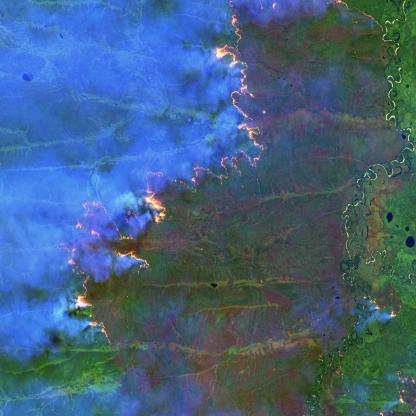fire: (52, 159, 168, 354), (182, 0, 269, 192), (362, 279, 406, 327), (382, 358, 416, 416)
